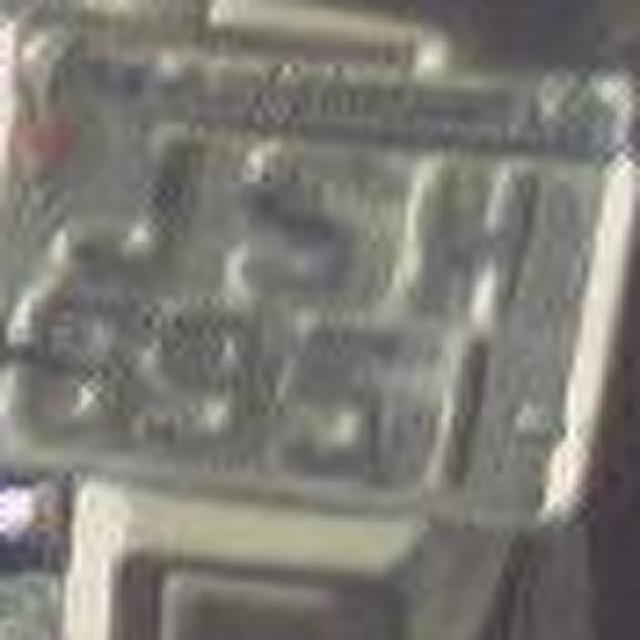1: (412, 308, 528, 492)
4: (8, 472, 100, 628)
5: (268, 309, 448, 496)
9: (128, 300, 320, 485)
H: (404, 140, 536, 325)
J: (36, 125, 204, 320)
